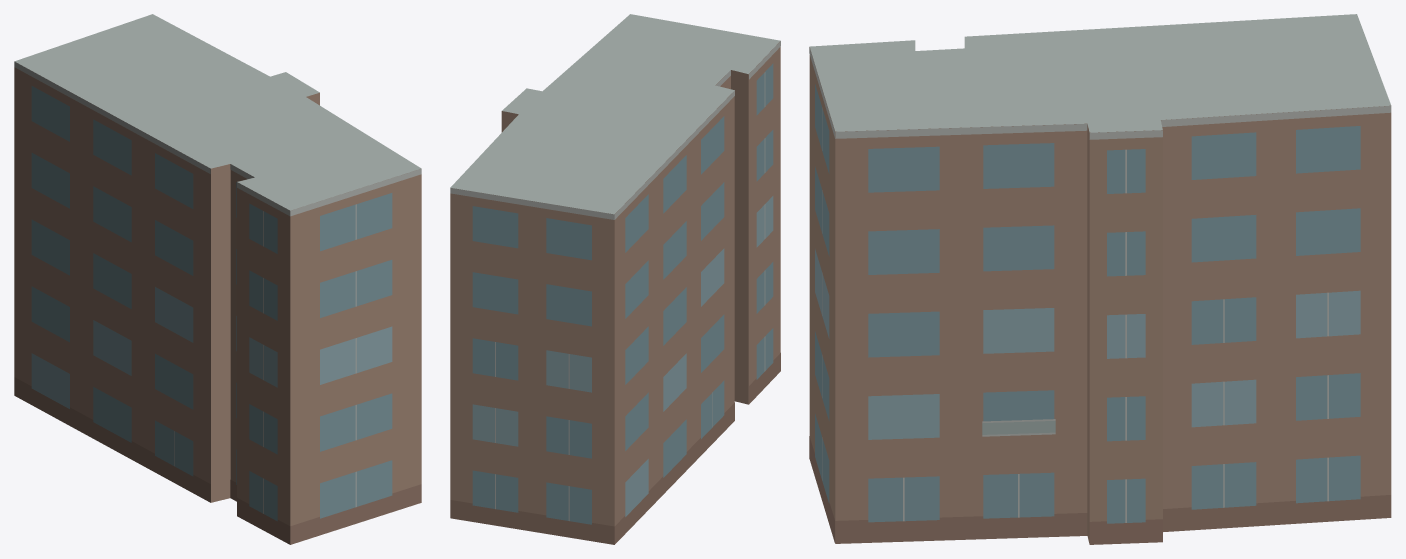
Rendered from survey-upis-32645980.glb.
The picture shows the model from 3 angles, left to right: view 1: azimuth 30°, elevation 25°; view 2: azimuth 150°, elevation 25°; view 3: azimuth 270°, elevation 25°; orthographic projection. The views are drawn at different scales.
Visible parts, largest first — view 1: survey-upis-32645980.tmp; view 2: survey-upis-32645980.tmp; view 3: survey-upis-32645980.tmp.
Part boxes in pixels (box(x1,y1,x2,y2)): survey-upis-32645980.tmp: box(14, 14, 421, 544); survey-upis-32645980.tmp: box(450, 14, 780, 544); survey-upis-32645980.tmp: box(809, 14, 1391, 544).
Size of the model in its own units: 8.78 by 14.2 by 18.18.
